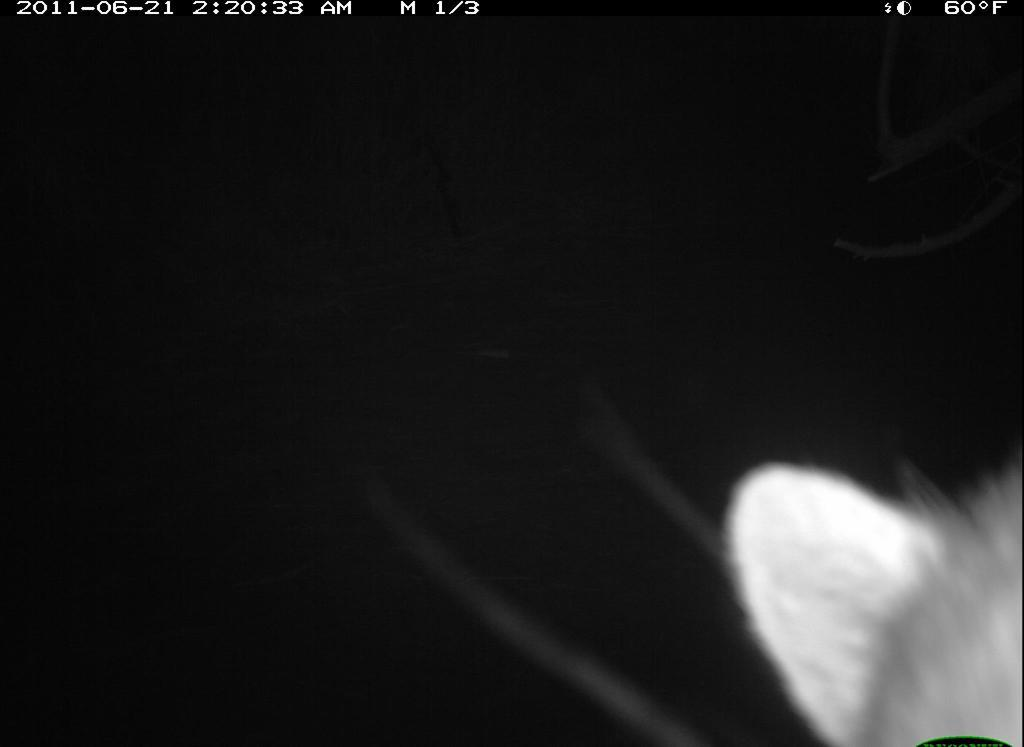raccoon: (702, 423, 1021, 747)
